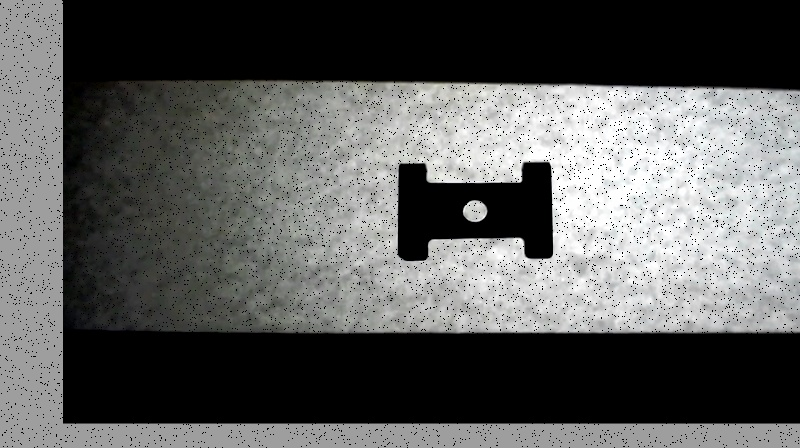O002: (394, 159, 559, 263)
